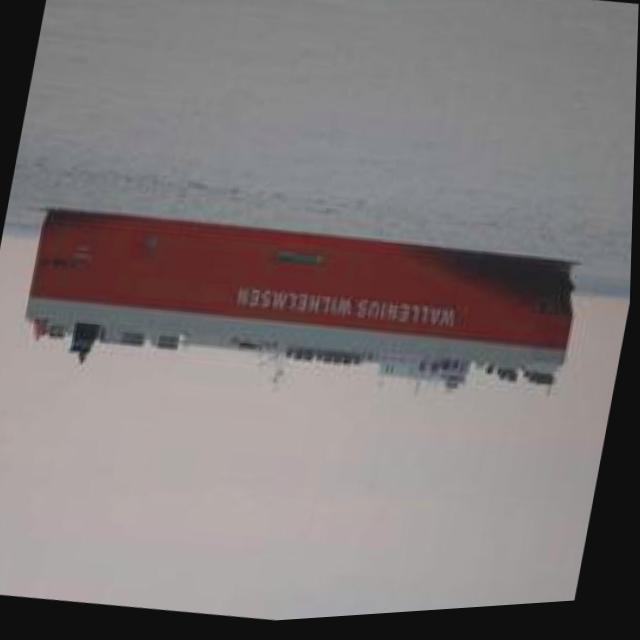ship2: (28, 210, 579, 405)
